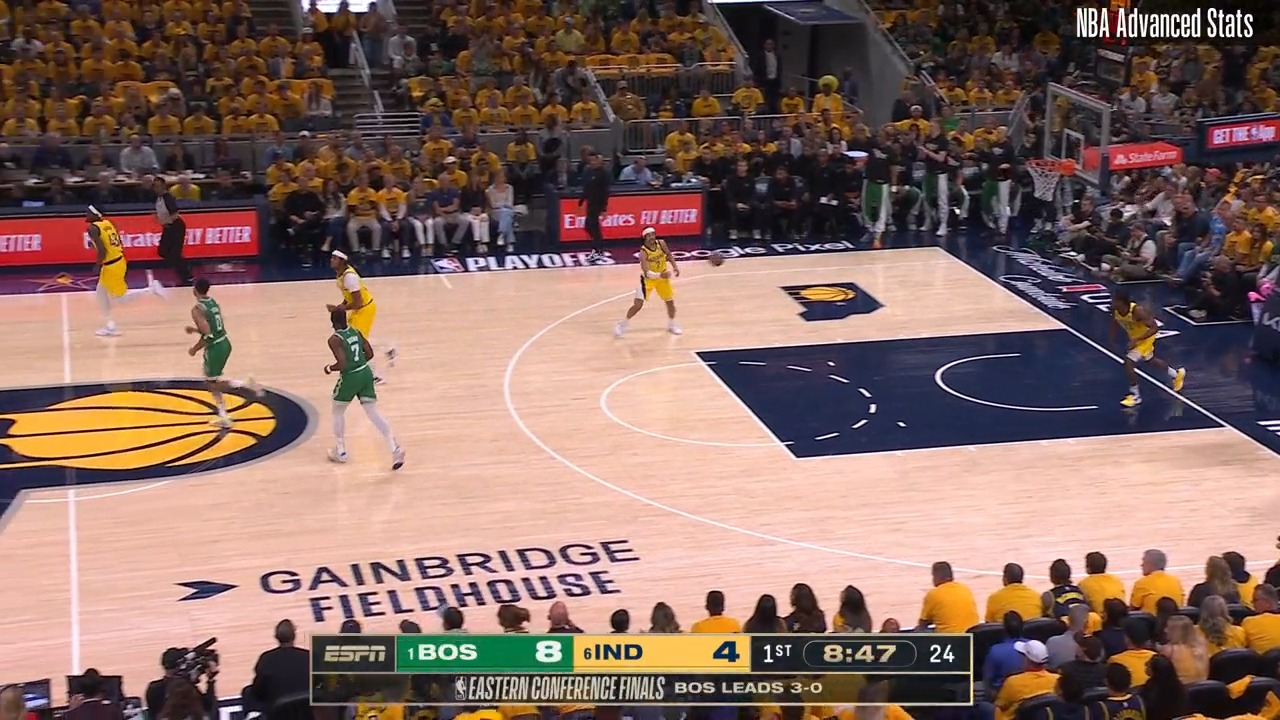basketball: (708, 251, 727, 270)
